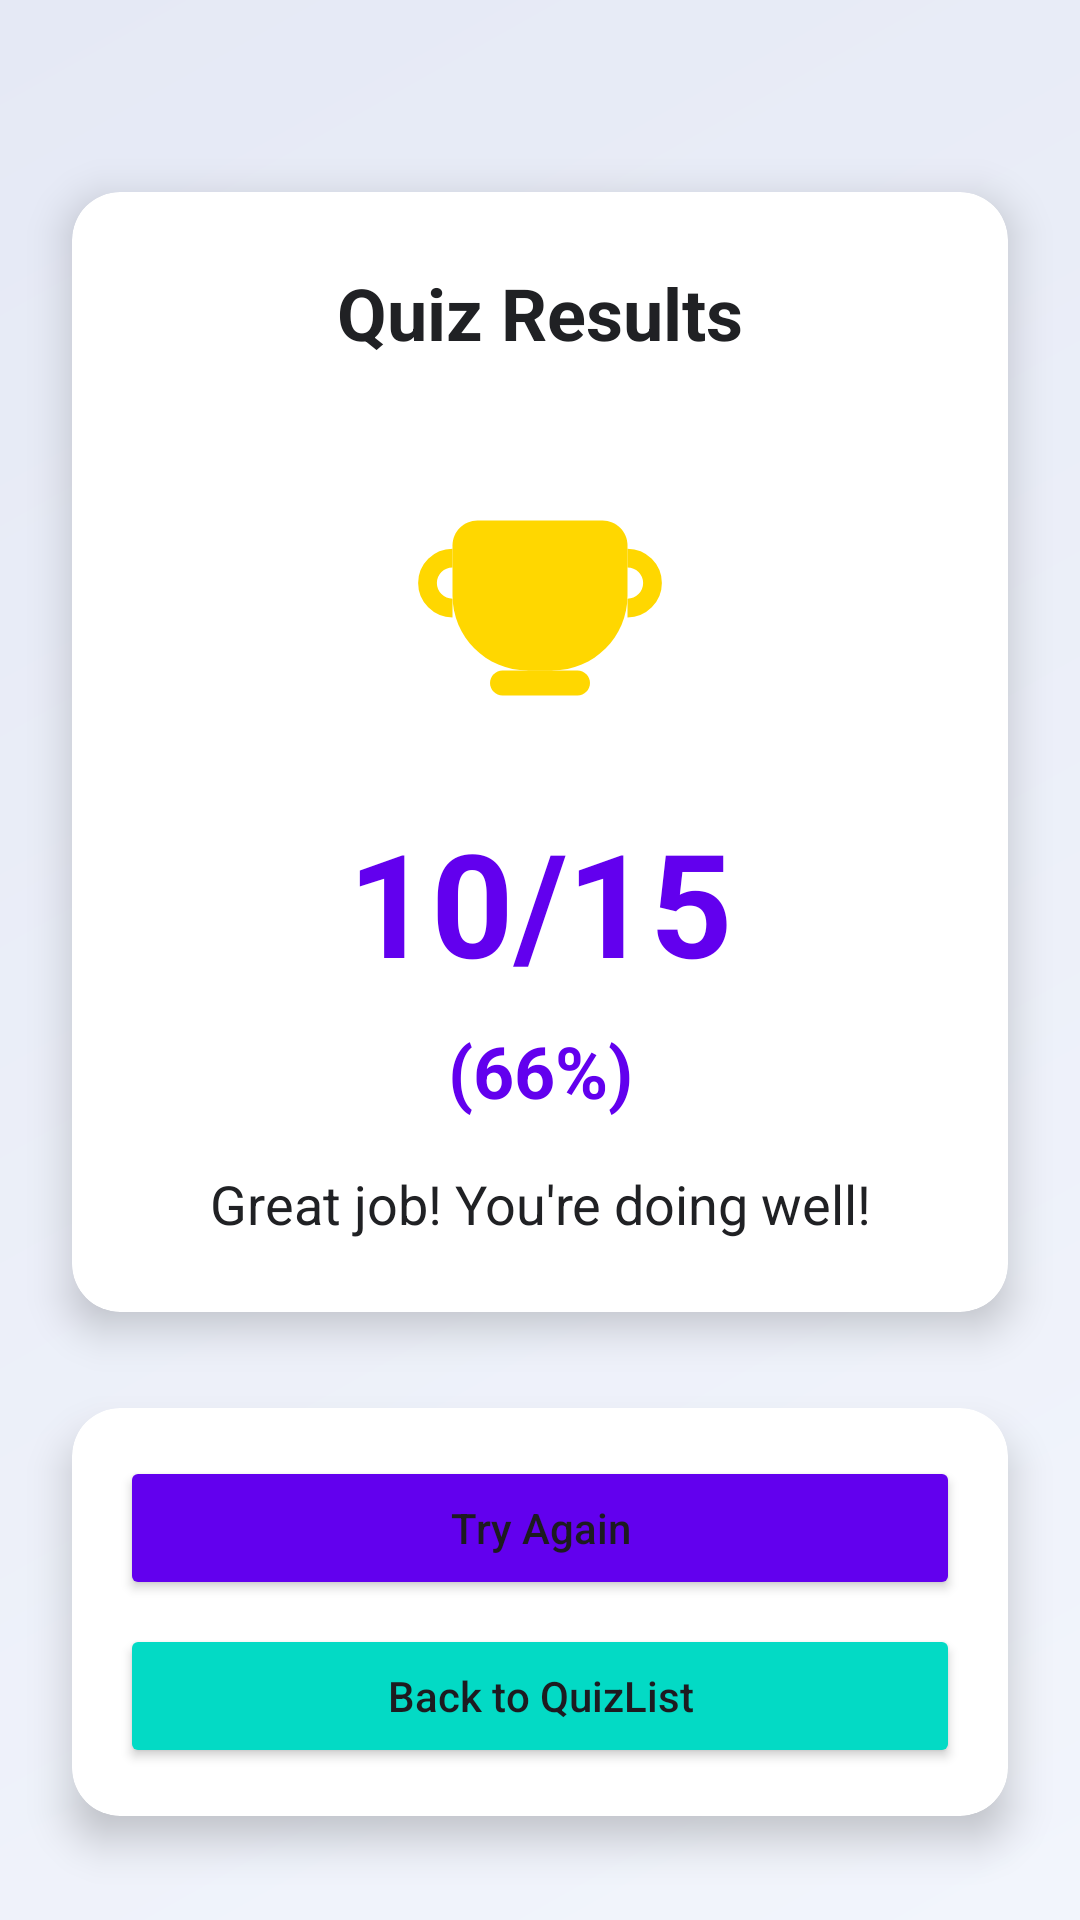

Screen size 1080×1920. Icon name, then its center in pixels as [x,y]:
trophy: [540,608]
